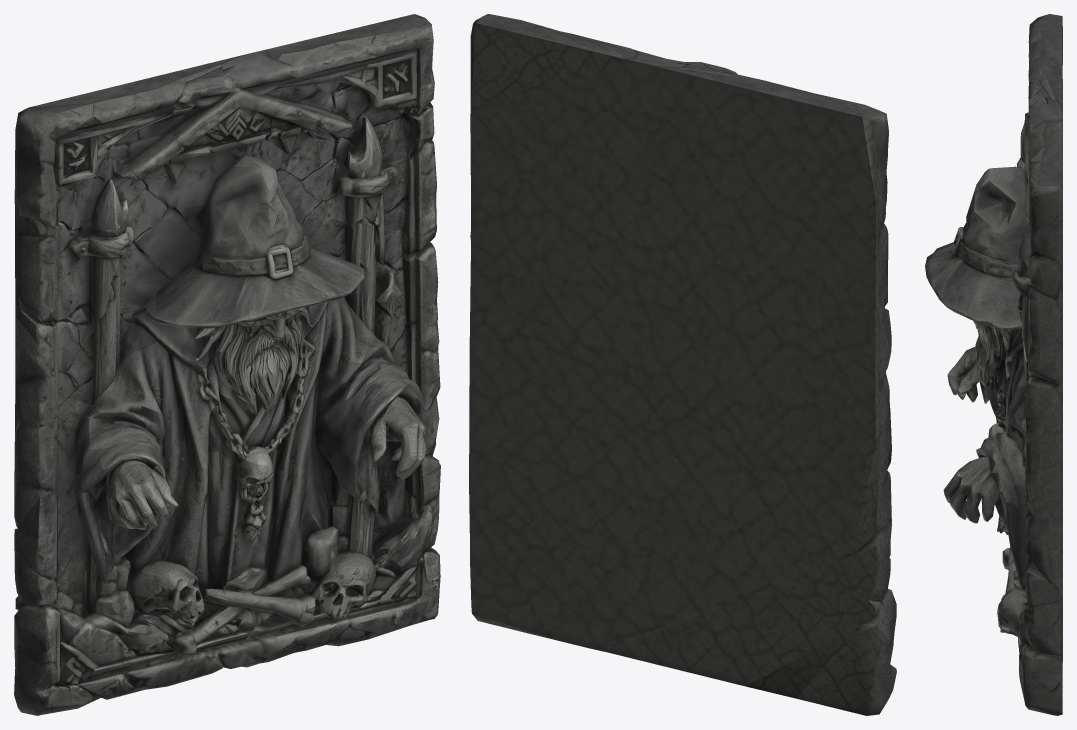
The model's file is Decoration_evil_wizard.glb.
The picture shows the model from 3 angles, left to right: view 1: azimuth 30°, elevation 25°; view 2: azimuth 150°, elevation 25°; view 3: azimuth 270°, elevation 25°; orthographic projection. The views are drawn at different scales.
Parts seen in each view (by area): view 1: Mesh_0; view 2: Mesh_0; view 3: Mesh_0.
Boxes of the visible parts, x1=… form: Mesh_0: x1=14, y1=14, x2=440, y2=715; Mesh_0: x1=469, y1=14, x2=896, y2=715; Mesh_0: x1=925, y1=14, x2=1062, y2=715.
Size of the model in its own units: 1.38 by 1.9 by 0.4484.
1 material, 1 textured.
